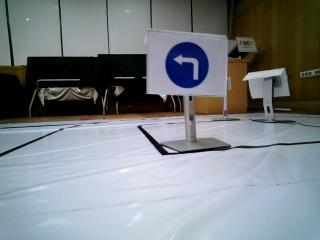left: (153, 36, 225, 96)
